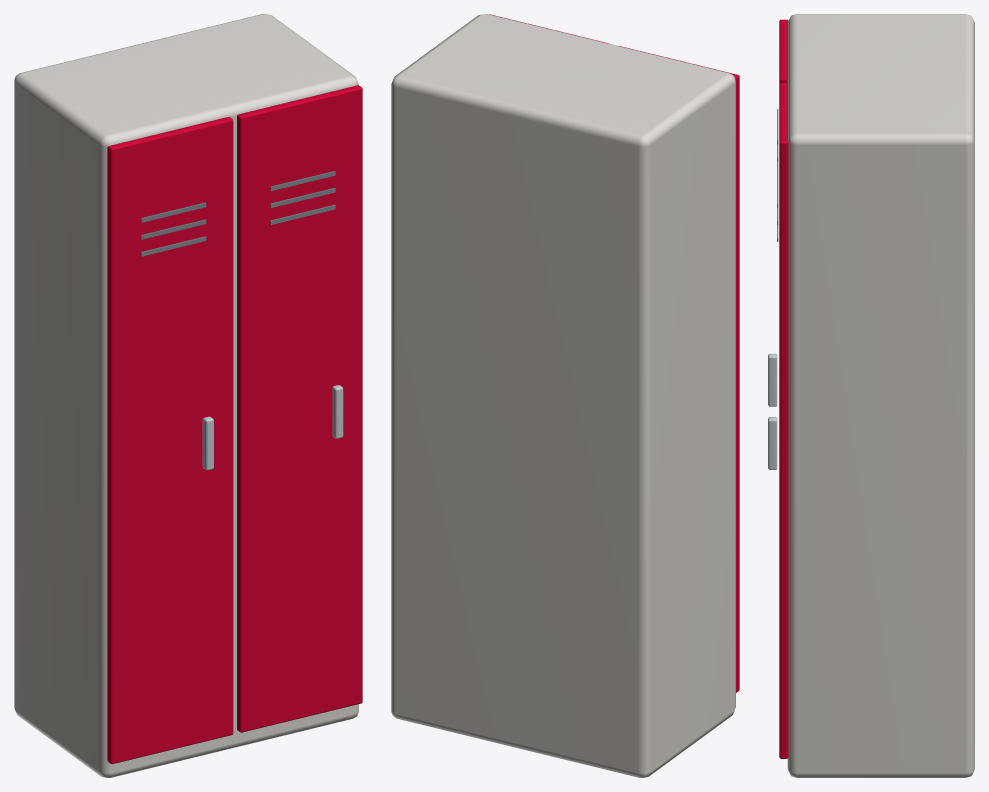
The model's file is Locker.fbx.
The picture shows the model from 3 angles, left to right: view 1: azimuth 30°, elevation 25°; view 2: azimuth 150°, elevation 25°; view 3: azimuth 270°, elevation 25°; orthographic projection.
Visible parts, largest first — view 1: Locker_Red, Locker_White, Locker_SteelDark, Locker_Steel; view 2: Locker_White, Locker_Red; view 3: Locker_White, Locker_Red, Locker_Steel.
Part boxes in pixels (<box>): Locker_Red: <box>107,85,362,764</box>; Locker_White: <box>14,14,358,777</box>; Locker_SteelDark: <box>141,171,335,256</box>; Locker_Steel: <box>202,385,343,470</box>; Locker_White: <box>391,14,735,777</box>; Locker_Red: <box>489,14,739,692</box>; Locker_White: <box>787,14,974,777</box>; Locker_Red: <box>779,19,788,758</box>; Locker_Steel: <box>768,353,777,469</box>.
Bounding box in the file's own units: 80 × 190 × 55.25.
